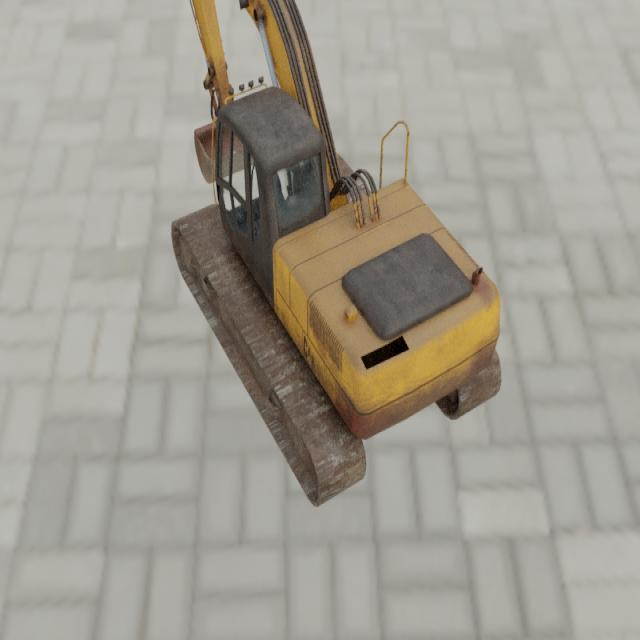excavator: (170, 0, 502, 508)
